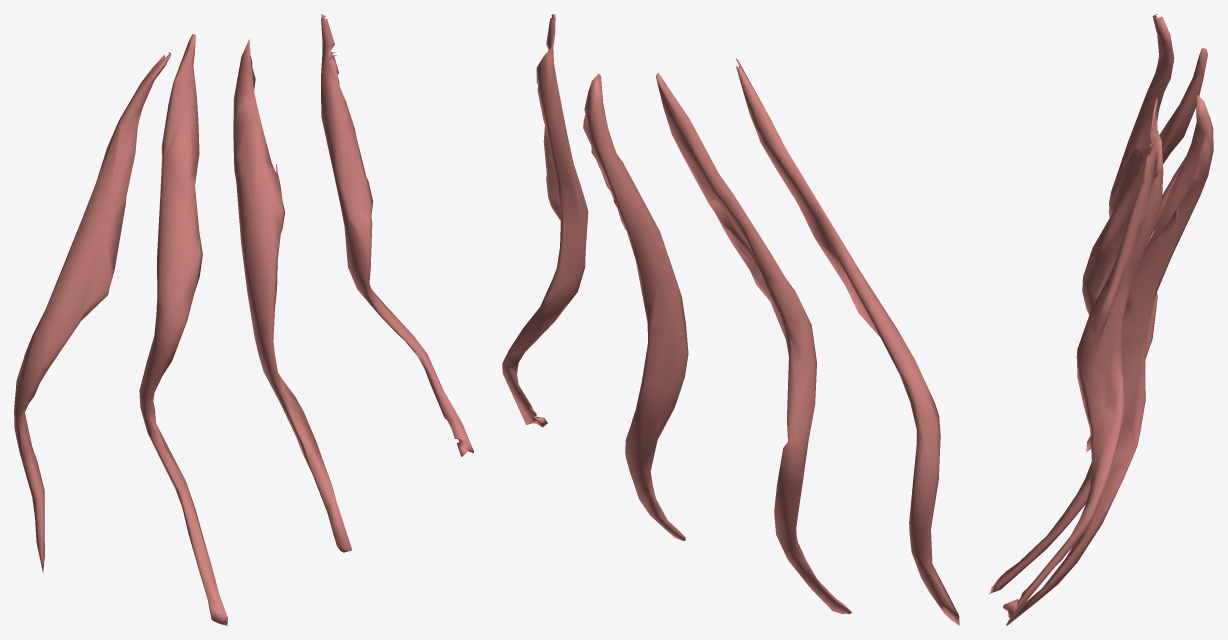
The picture shows the model from 3 angles, left to right: view 1: azimuth 30°, elevation 25°; view 2: azimuth 150°, elevation 25°; view 3: azimuth 270°, elevation 25°; orthographic projection. The views are drawn at different scales.
Visible parts, largest first — view 1: ZA_b6ef88b93cc82585; view 2: ZA_b6ef88b93cc82585; view 3: ZA_b6ef88b93cc82585.
Part boxes in pixels (bbox=[...]): ZA_b6ef88b93cc82585: bbox=[14, 14, 473, 625]; ZA_b6ef88b93cc82585: bbox=[502, 14, 959, 625]; ZA_b6ef88b93cc82585: bbox=[989, 14, 1213, 625].
Size of the model in its own units: 0.0758 by 0.0929 by 0.0321.
